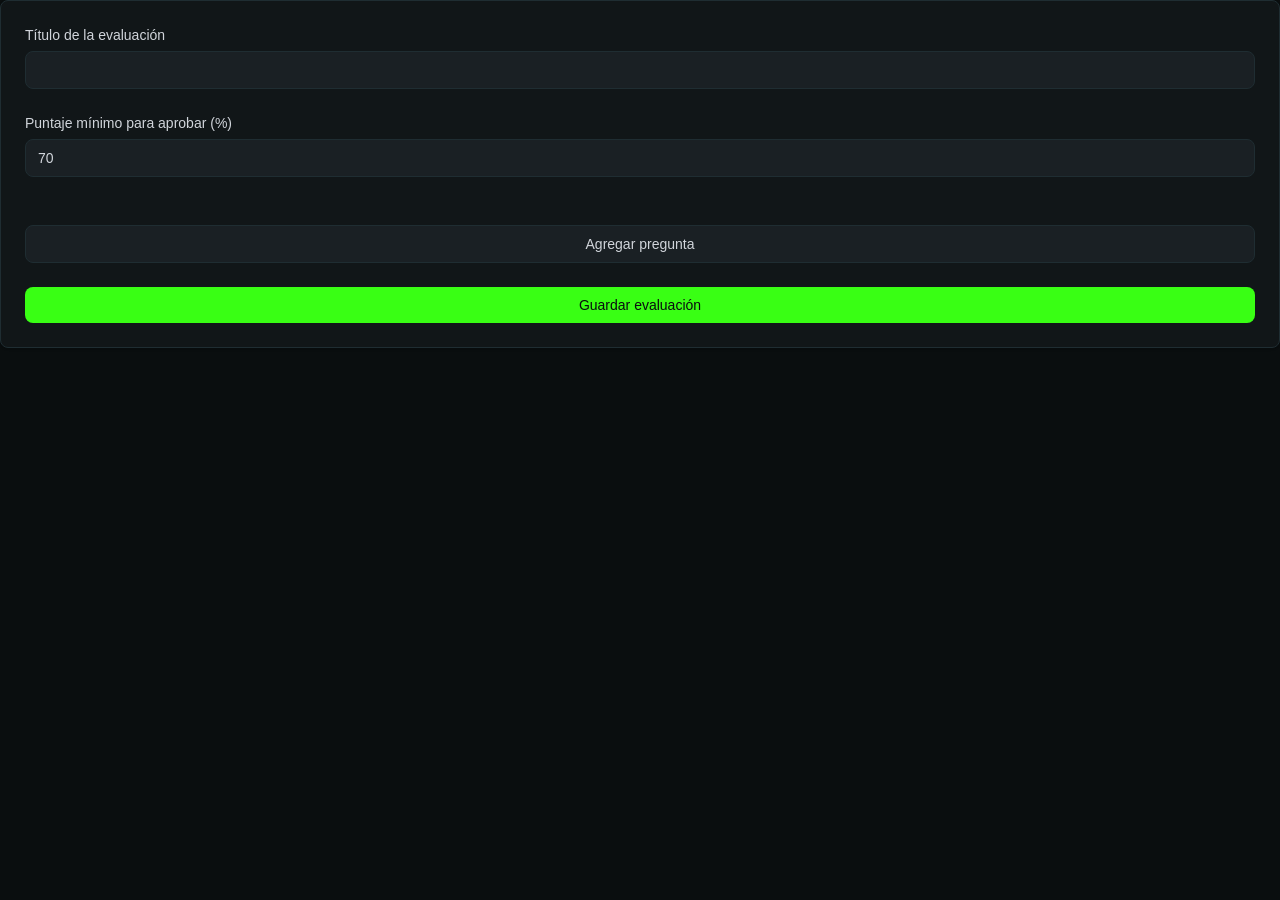
Scenario: QuizBuilderForm › selecting a new correct option unselects the previous one (exclusive radio)
The image size is (1280, 900).
Click the button "Agregar pregunta".
click(640, 244)  # box [25, 225, 1255, 263]
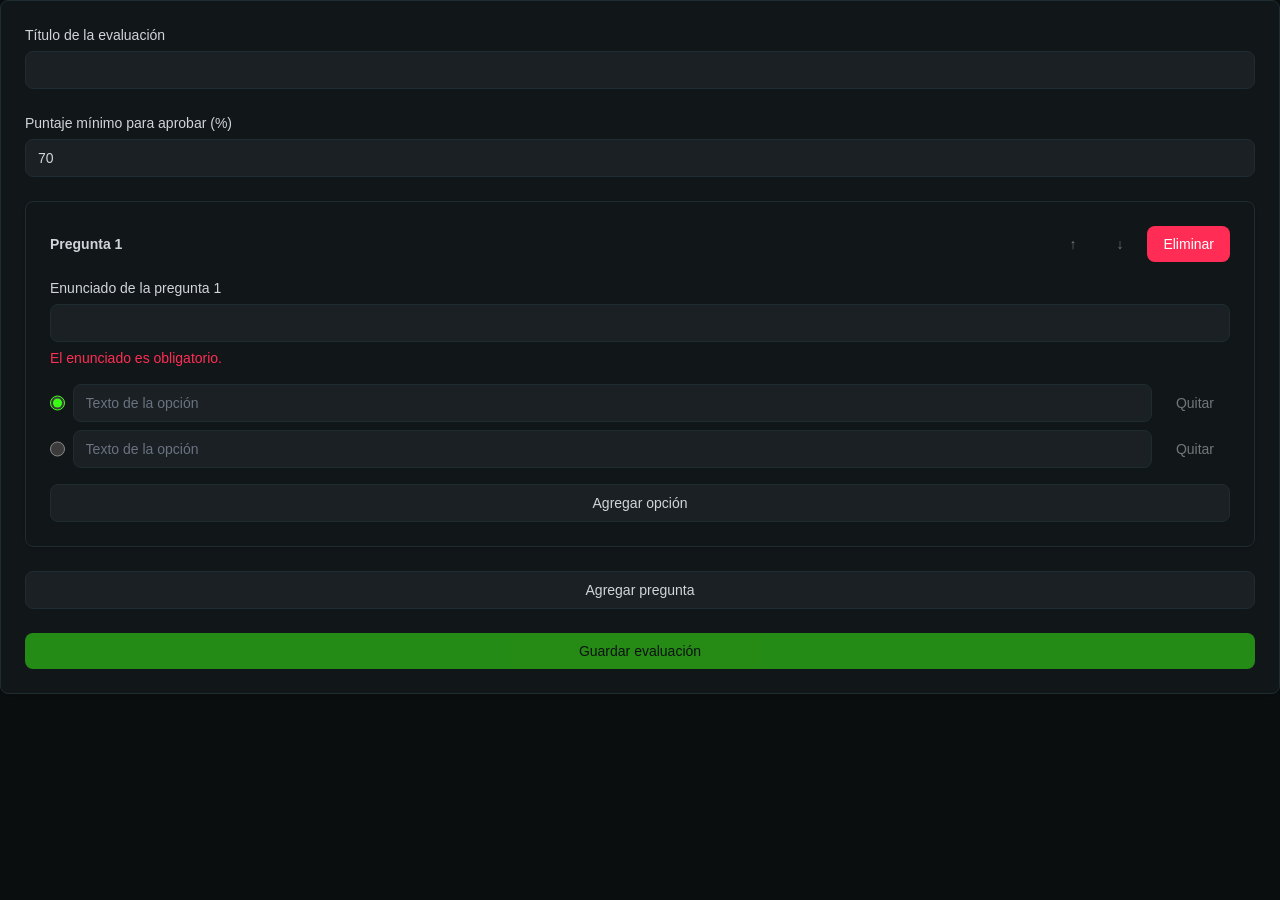
Now the radio button named "Marcar opción 1 de la pregunta 1 como correcta" is checked, box [50, 395, 65, 411]
Now the radio button named "Marcar opción 2 de la pregunta 1 como correcta" is not checked
Click the radio button named "Marcar opción 2 de la pregunta 1 como correcta".
click(57, 449)  # box [50, 441, 65, 457]
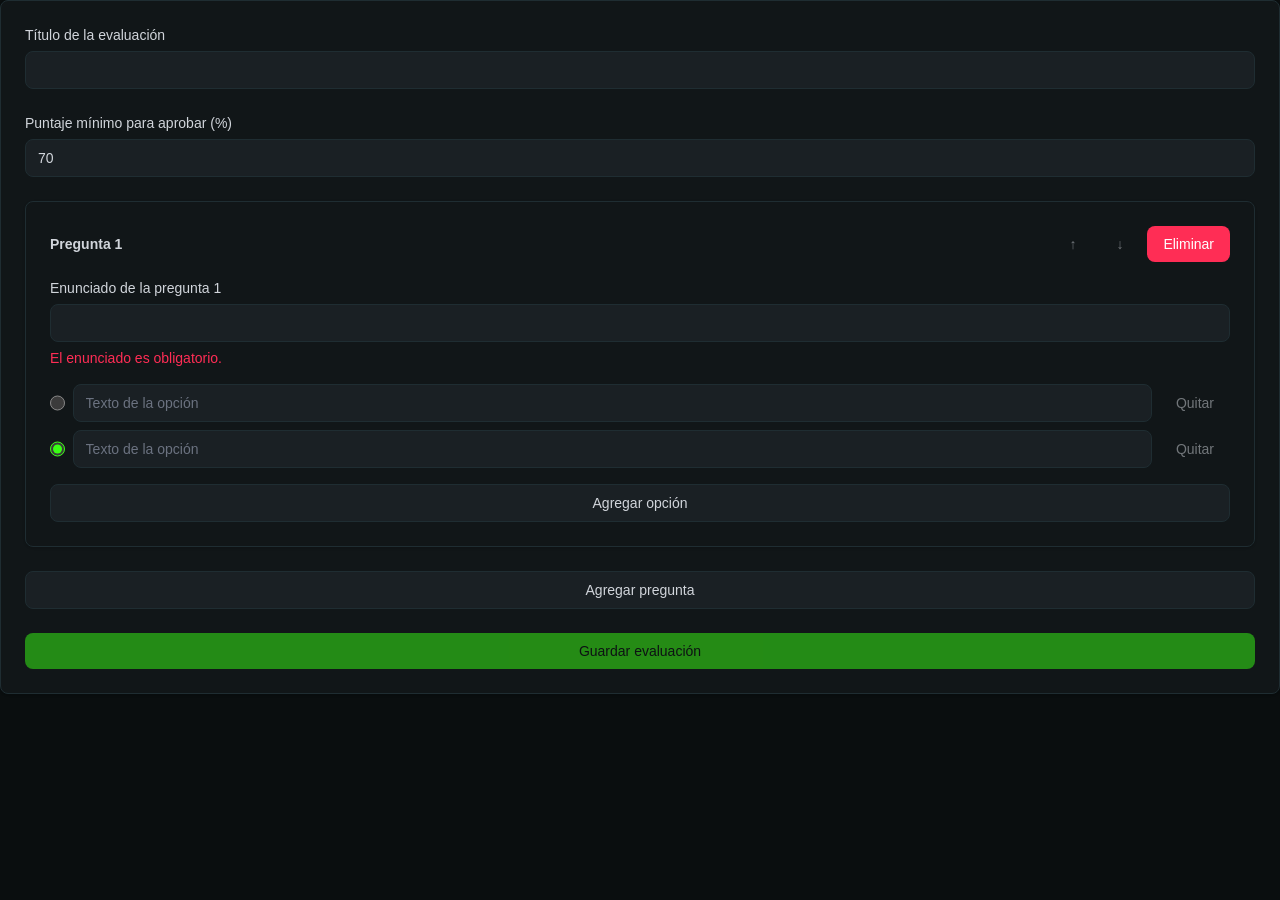
Now the radio button named "Marcar opción 2 de la pregunta 1 como correcta" is checked, box [50, 441, 65, 457]
Now the radio button named "Marcar opción 1 de la pregunta 1 como correcta" is not checked, box [50, 395, 65, 411]
